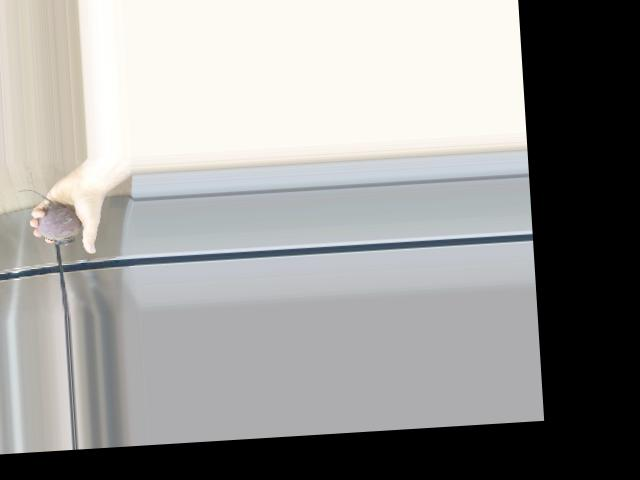beet: (16, 186, 82, 247)
